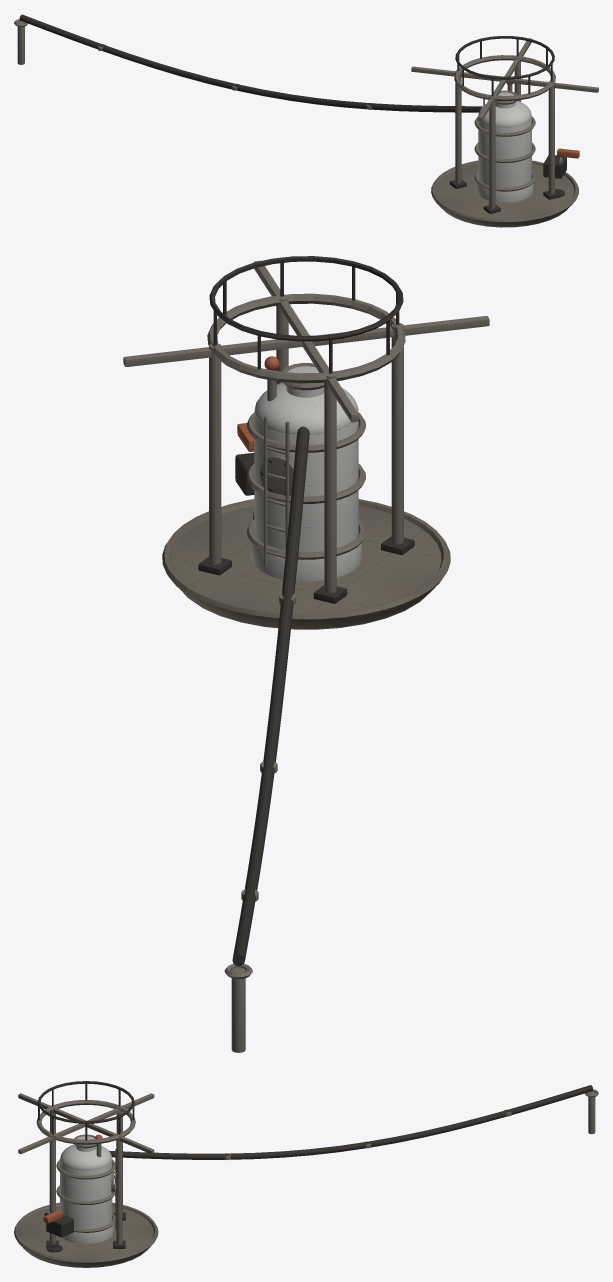
The model's file is lox_stand.glb.
The picture shows the model from 3 angles, top to bottom: view 1: azimuth 30°, elevation 25°; view 2: azimuth 150°, elevation 25°; view 3: azimuth 270°, elevation 25°; orthographic projection. The views are drawn at different scales.
Parts seen in each view (by area): view 1: bund, transfer, shell, bund_lip, ring_beam, dome_lo, guard, leg1, leg2, leg3, skirt, brace1 (+6 smaller); view 2: bund, transfer, shell, bund_lip, ring_beam, dome_lo, leg0, guard, leg3, leg2, skirt, brace0 (+2 smaller); view 3: bund, transfer, shell, bund_lip, ring_beam, dome_lo, leg0, guard, leg1, skirt, manifold, brace0 (+6 smaller).
Part boxes in pixels (x1,y1,x2,y2): bund: (436,164,574,227); transfer: (19,14,482,112); shell: (478,117,531,187); bund_lip: (431,160,578,223); ring_beam: (454,55,555,100); dome_lo: (478,101,531,127); guard: (455,36,554,79); leg1: (548,81,554,194); leg2: (489,96,495,208); leg3: (455,70,461,183); skirt: (476,183,533,202); brace1: (506,78,598,92); bund: (171,506,441,629); transfer: (232,426,309,966); shell: (254,414,358,552); bund_lip: (162,499,450,621); ring_beam: (207,293,405,383); dome_lo: (254,382,358,435); leg0: (209,343,221,564); guard: (209,256,403,341); leg3: (324,371,336,592); leg2: (391,323,403,544); skirt: (251,542,361,581); brace0: (123,339,302,366); bund: (18,1206,153,1267); transfer: (109,1085,593,1159); shell: (60,1160,112,1229); bund_lip: (14,1202,158,1263); ring_beam: (36,1100,135,1144); dome_lo: (60,1144,112,1170); leg0: (116,1134,122,1244); guard: (37,1081,134,1123); leg1: (49,1134,55,1244); skirt: (62,1224,113,1243); manifold: (46,1214,73,1237); brace0: (87,1123,154,1153).
Size of the model in its own units: 7.88 by 3.65 by 13.88.
6 materials, 4 textured.
